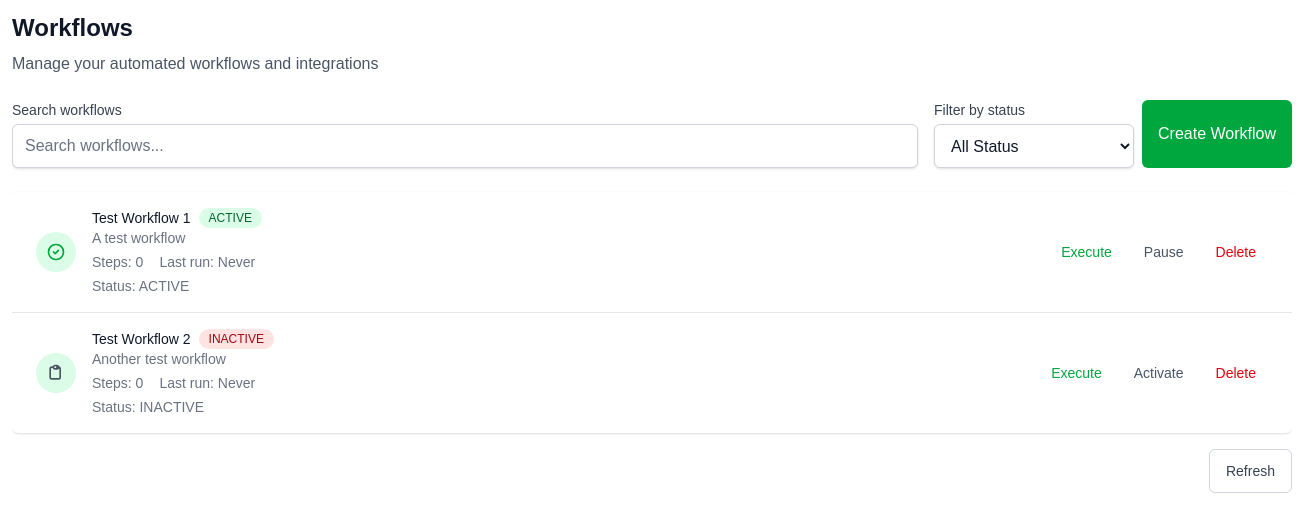
Test case: WorkflowsTab › Search and Filter Controls › filters workflows based on status
The width and height of the screenshot is (1304, 510).
Select "Active" in the dropdown with test id "workflow-filter-select" at (1034, 146), box [934, 124, 1134, 168]
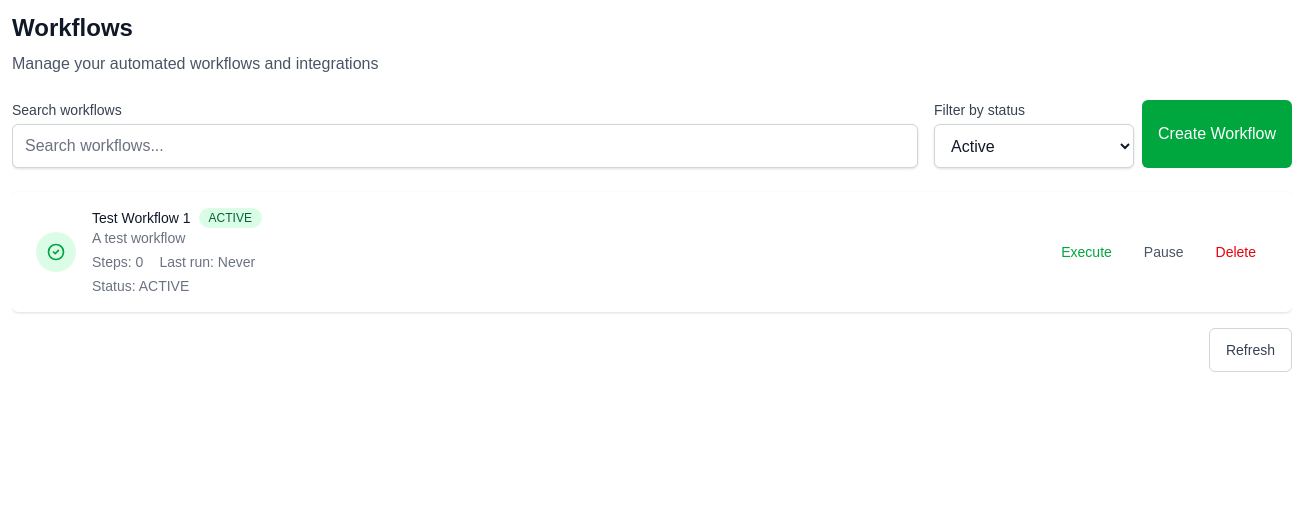
Expected: the text "Test Workflow 1" is shown, [92, 208, 190, 228]
Result: the link "Test Workflow 2" is gone
